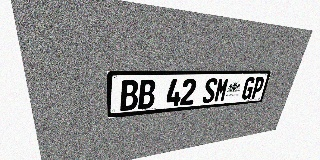2: (180, 78, 197, 105)
4: (166, 79, 183, 107)
B: (120, 80, 139, 111), (138, 79, 156, 109)
G: (241, 77, 256, 100)
M: (213, 78, 230, 102)
P: (250, 77, 265, 99)
S: (202, 78, 218, 103)
